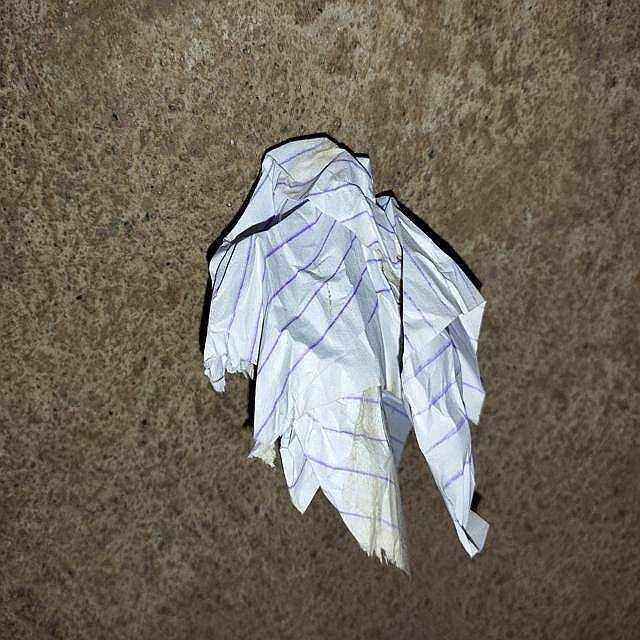Biodegradable: (201, 139, 493, 567)
